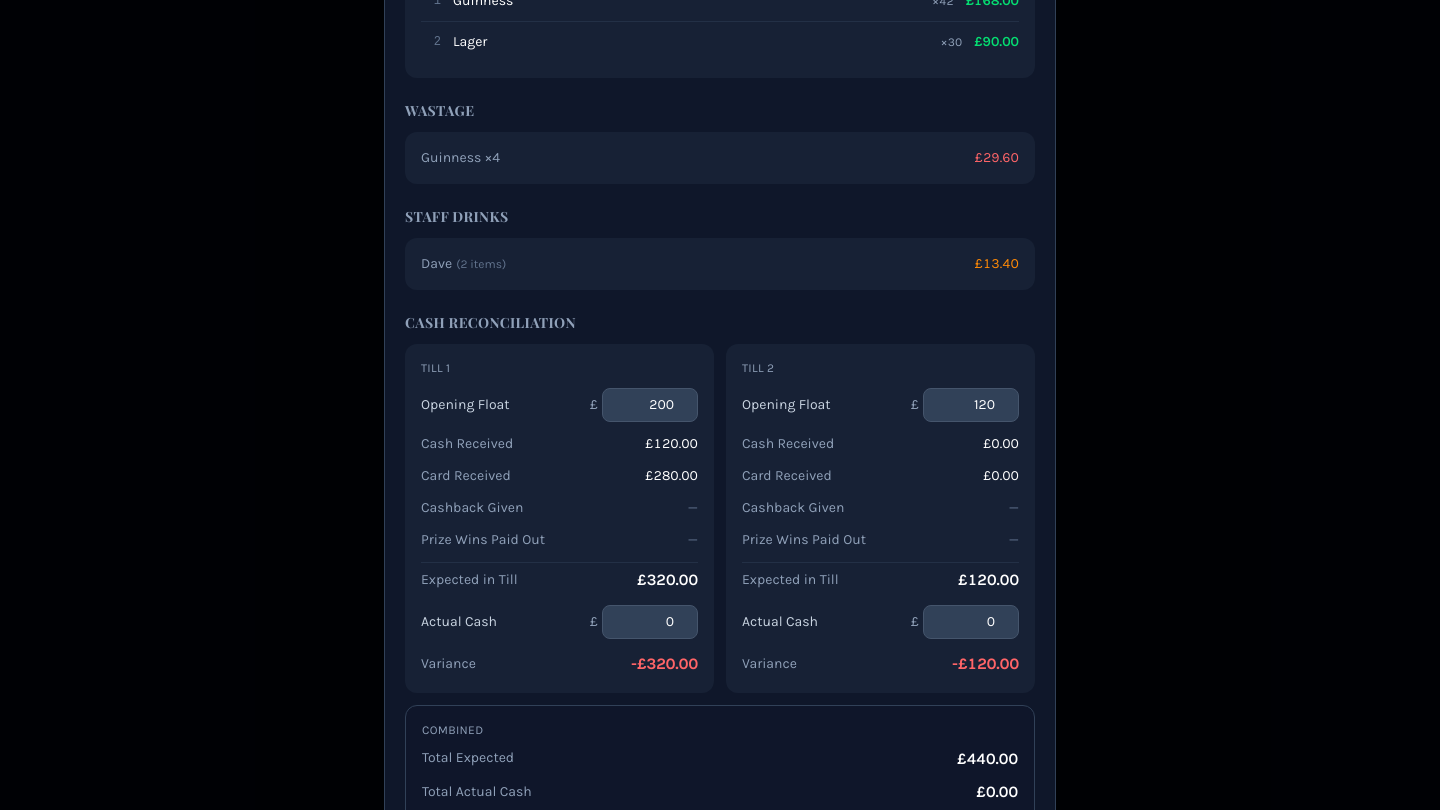
Scenario: ZReportModal — Cash Reconciliation › combined expected = till1 (float + cash) + till2 (float + cash)
The image size is (1440, 810).
(page scrolled)
Expected: the text with test id "z-expected-till" reads "£440.00", [957,748,1018,768]
Replace the text in the number field named "opening float till 1" with "50" at (650, 405), box [602,388,698,422]
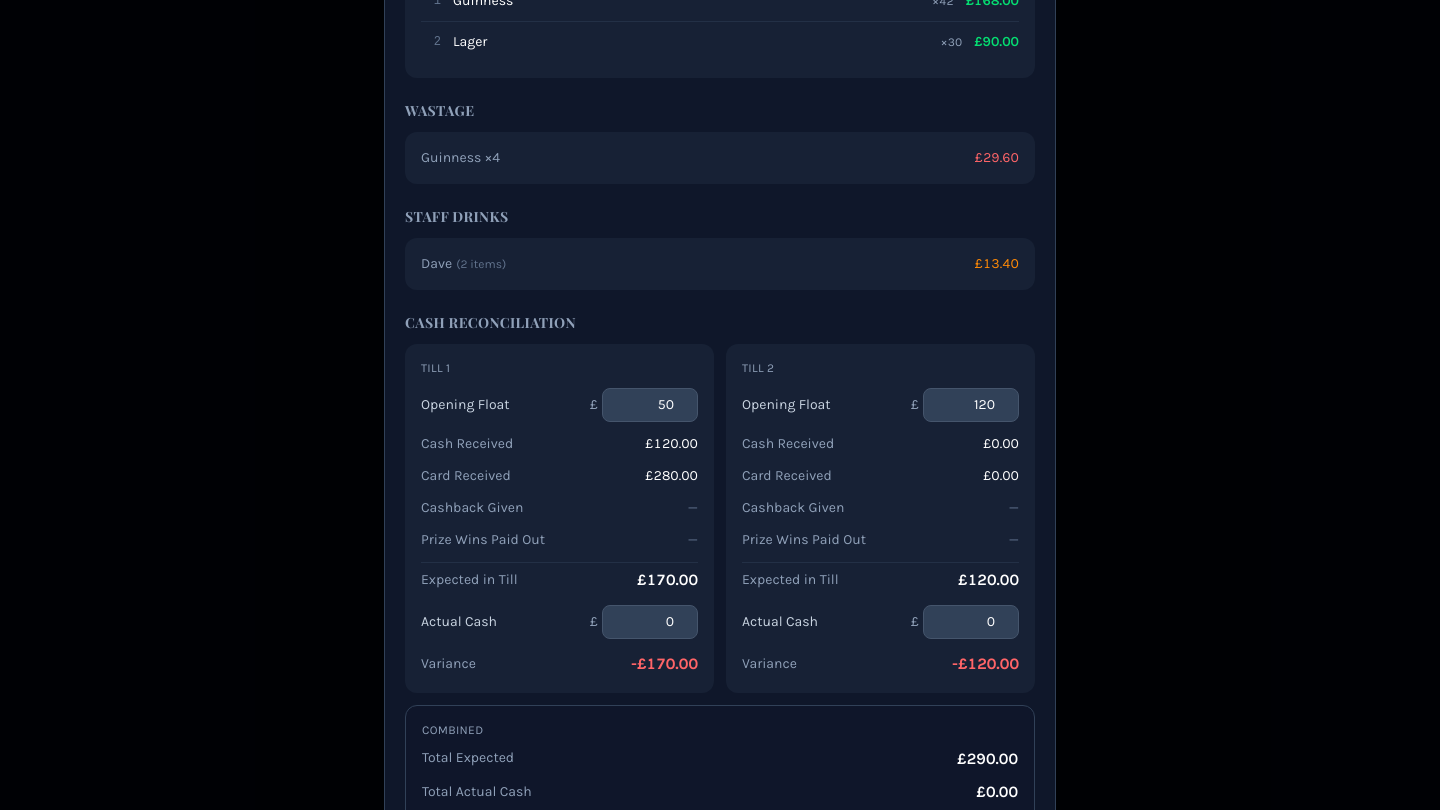
Result: the text with test id "z-expected-till" reads "£290.00" at [957,748,1018,768]
